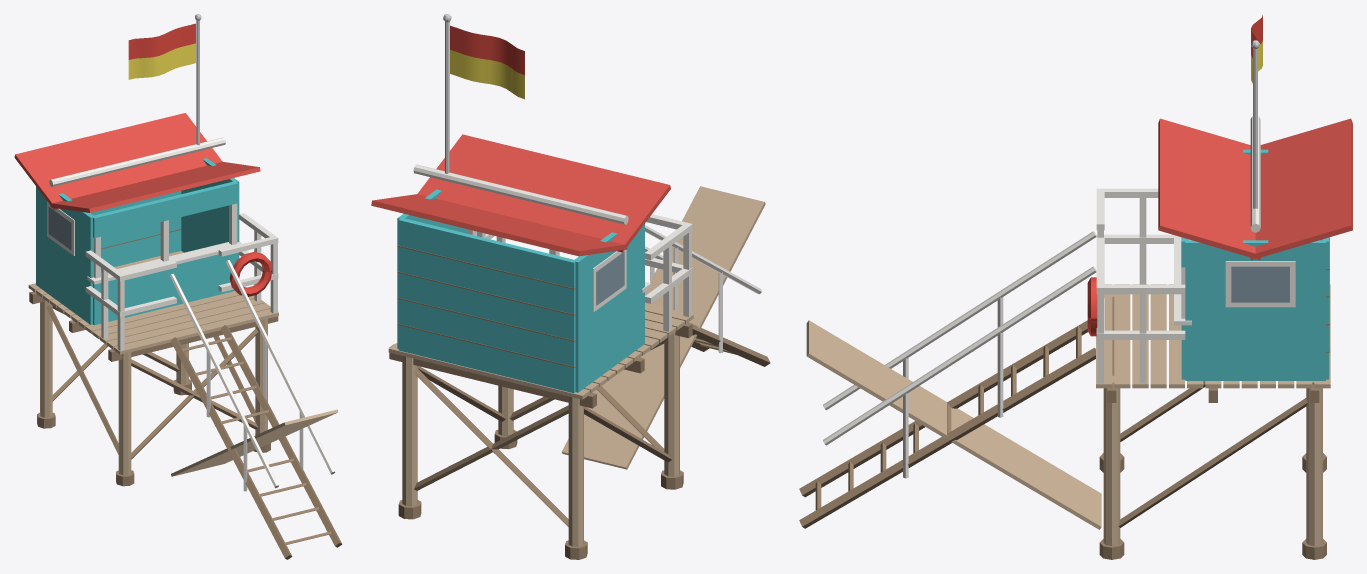
File: prop_lifeguard_tower.glb
The picture shows the model from 3 angles, left to right: view 1: azimuth 30°, elevation 25°; view 2: azimuth 150°, elevation 25°; view 3: azimuth 270°, elevation 25°; orthographic projection. The views are drawn at different scales.
Parts seen in each view (by area): view 1: LifeguardTower; view 2: LifeguardTower; view 3: LifeguardTower.
Boxes of the visible parts, x1,y1,x2,y2 form: LifeguardTower: (14, 14, 342, 559); LifeguardTower: (371, 14, 770, 559); LifeguardTower: (799, 15, 1352, 559).
Bounding box in the file's own units: 2.28 × 5 × 4.92.
